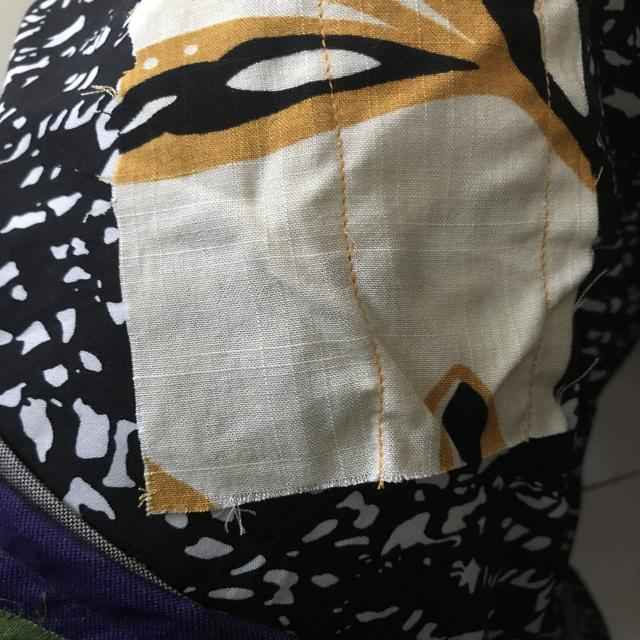broken: (330, 215, 372, 262)
